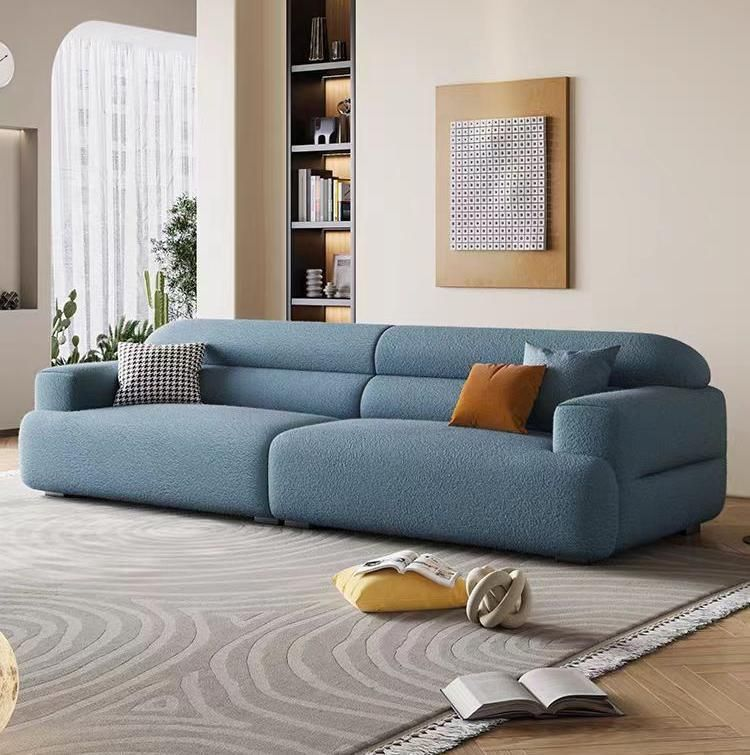3seatersofa: (20, 320, 725, 560)
backrest: (151, 319, 709, 421)
leftarmrest: (553, 387, 725, 547)
leg: (679, 524, 700, 536), (555, 556, 596, 562), (254, 516, 280, 523), (285, 519, 310, 526), (44, 491, 63, 496)
pillow: (449, 342, 620, 433), (115, 343, 204, 405)
rightarmrest: (36, 363, 116, 410)
seat: (21, 404, 613, 557)
